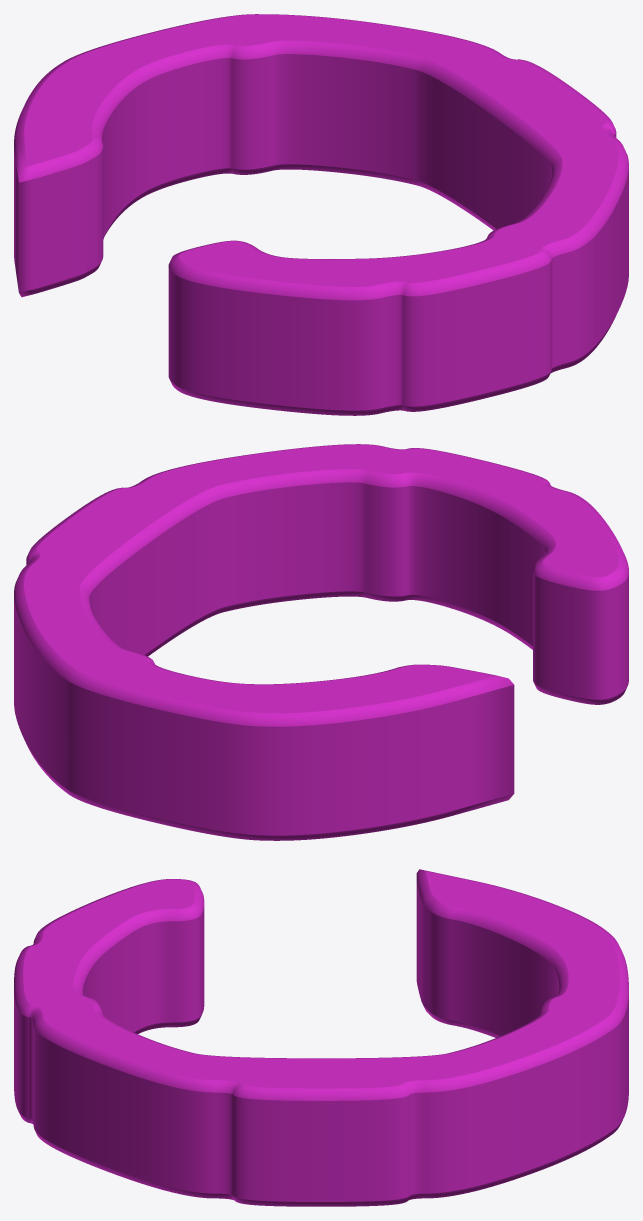
Rendered from Blocky_LetterC.fbx.
3 renders of one model, top to bottom at view 1: azimuth 30°, elevation 25°; view 2: azimuth 150°, elevation 25°; view 3: azimuth 270°, elevation 25°, orthographic. The views are drawn at different scales.
Visible parts, largest first — view 1: BlockyLetter_C; view 2: BlockyLetter_C; view 3: BlockyLetter_C.
Part boxes in pixels (x1=…): BlockyLetter_C: x1=14, y1=14, x2=628, y2=415; BlockyLetter_C: x1=14, y1=444, x2=628, y2=840; BlockyLetter_C: x1=14, y1=869, x2=628, y2=1206.
Size of the model in its own units: 0.5795 by 0.14 by 0.6617.
